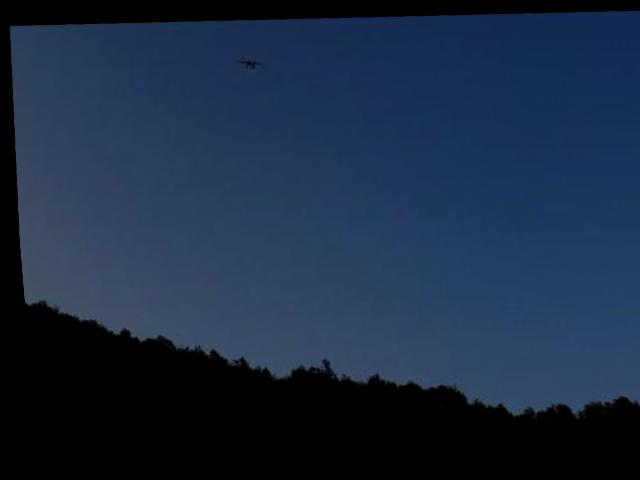uav: (233, 59, 262, 74)
